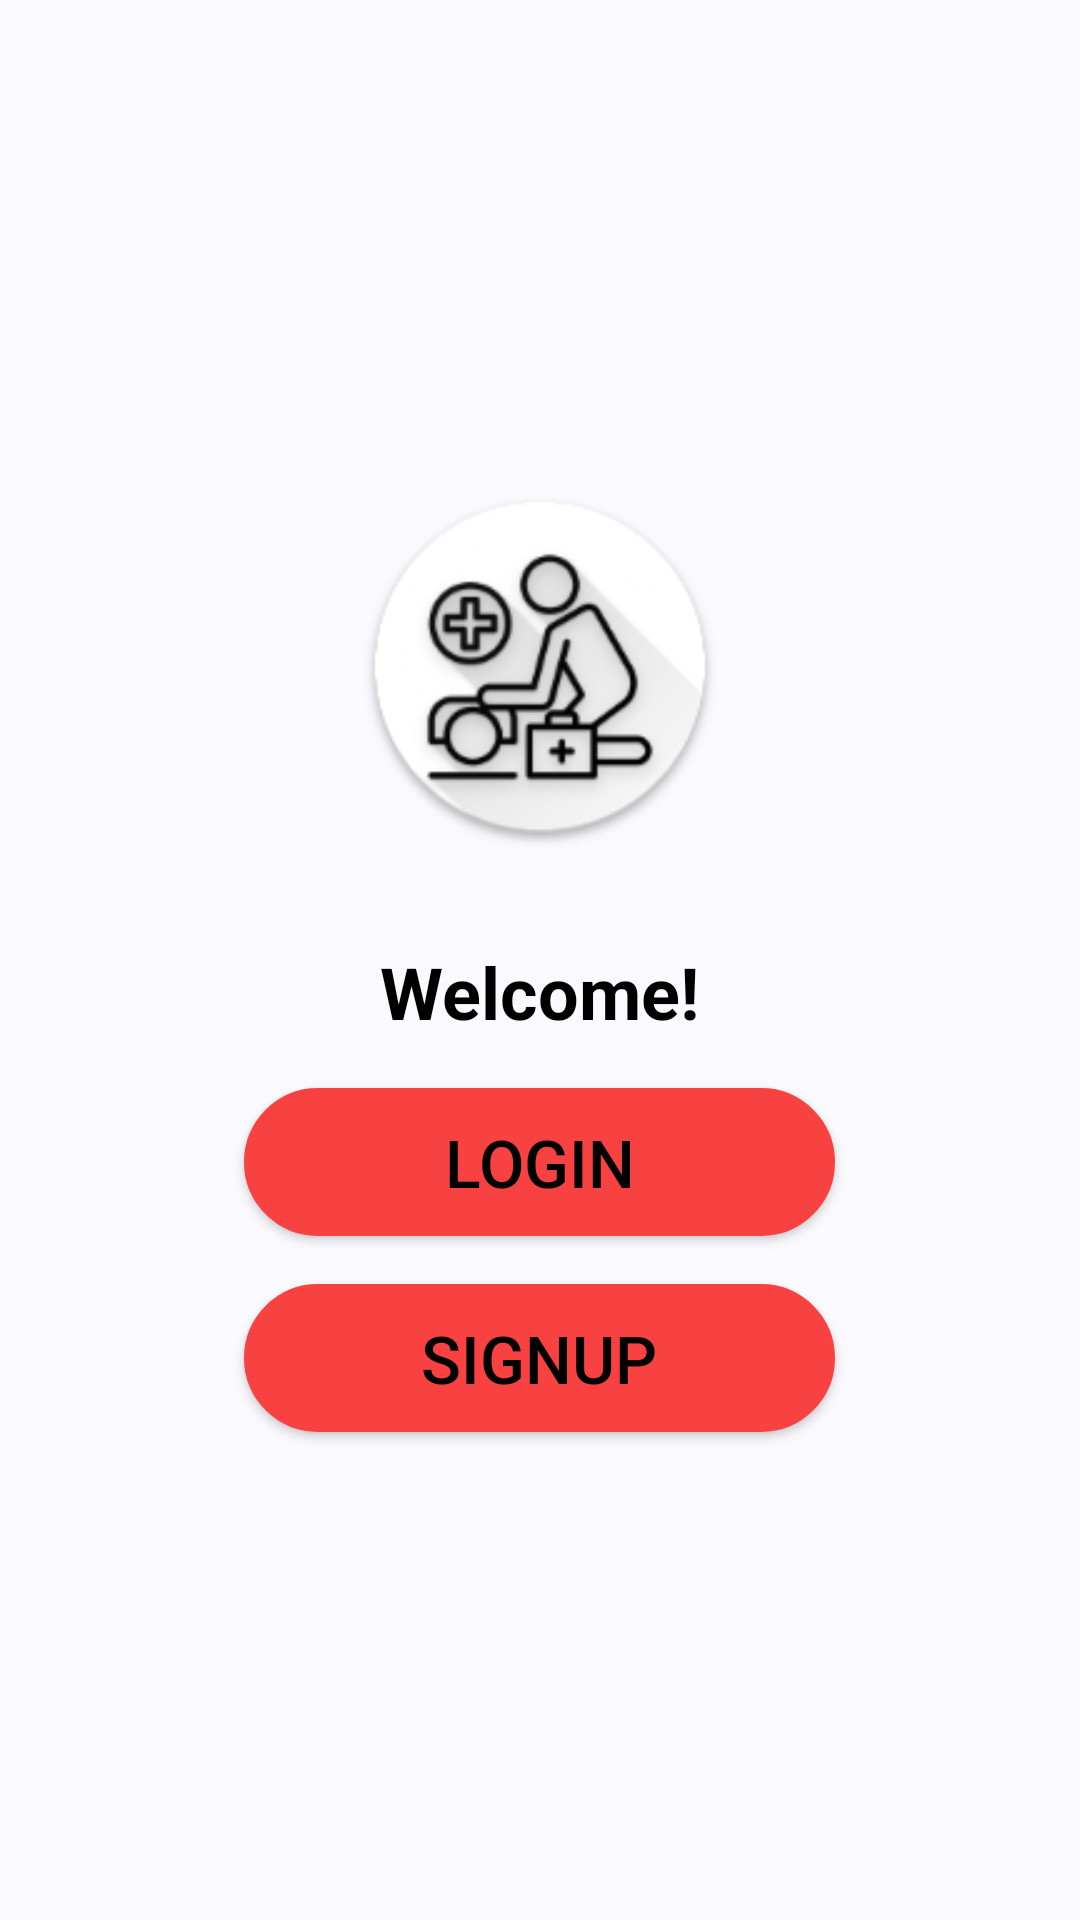

Where to tap for icons on this 1080x1920 app screen, as (x=x, y=y):
App Icon: (x=540, y=697)
